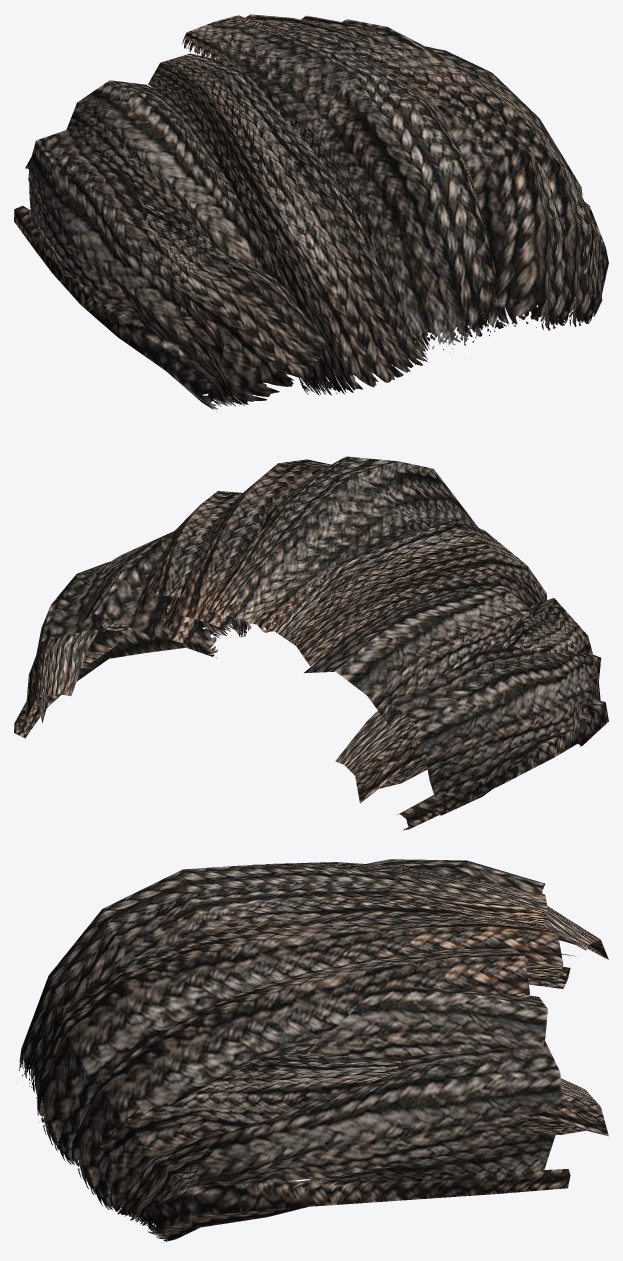
Rendered from Braids.fbx.
3 views of the same model, one above another, from view 1: azimuth 30°, elevation 25°; view 2: azimuth 150°, elevation 25°; view 3: azimuth 270°, elevation 25° (orthographic). The views are drawn at different scales.
Visible parts, largest first — view 1: Braids; view 2: Braids; view 3: Braids.
Part boxes in pixels (bbox=[...]): Braids: bbox=[14, 14, 608, 411]; Braids: bbox=[14, 456, 608, 830]; Braids: bbox=[17, 859, 608, 1242].
Bounding box in the file's own units: 14.73 × 7.95 × 14.68.
1 material, 1 textured.
